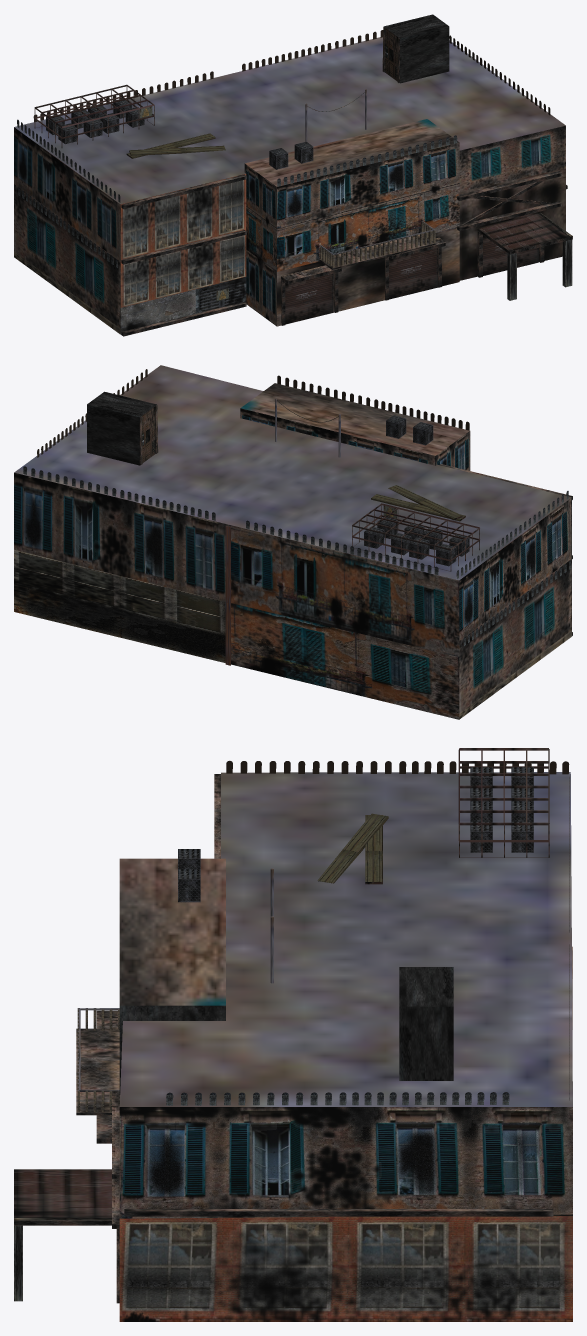
The model's file is OLD house.FBX.
3 renders of one model, top to bottom at view 1: azimuth 30°, elevation 25°; view 2: azimuth 150°, elevation 25°; view 3: azimuth 270°, elevation 25°, orthographic. The views are drawn at different scales.
Visible parts, largest first — view 1: Line02; view 2: Line02; view 3: Line02.
Part boxes in pixels (left/top/right/bottom): Line02: left=14, top=14, right=572, bottom=336; Line02: left=14, top=365, right=572, bottom=719; Line02: left=14, top=748, right=572, bottom=1321.
Bounding box in the file's own units: 2841 × 1142 × 1988.
